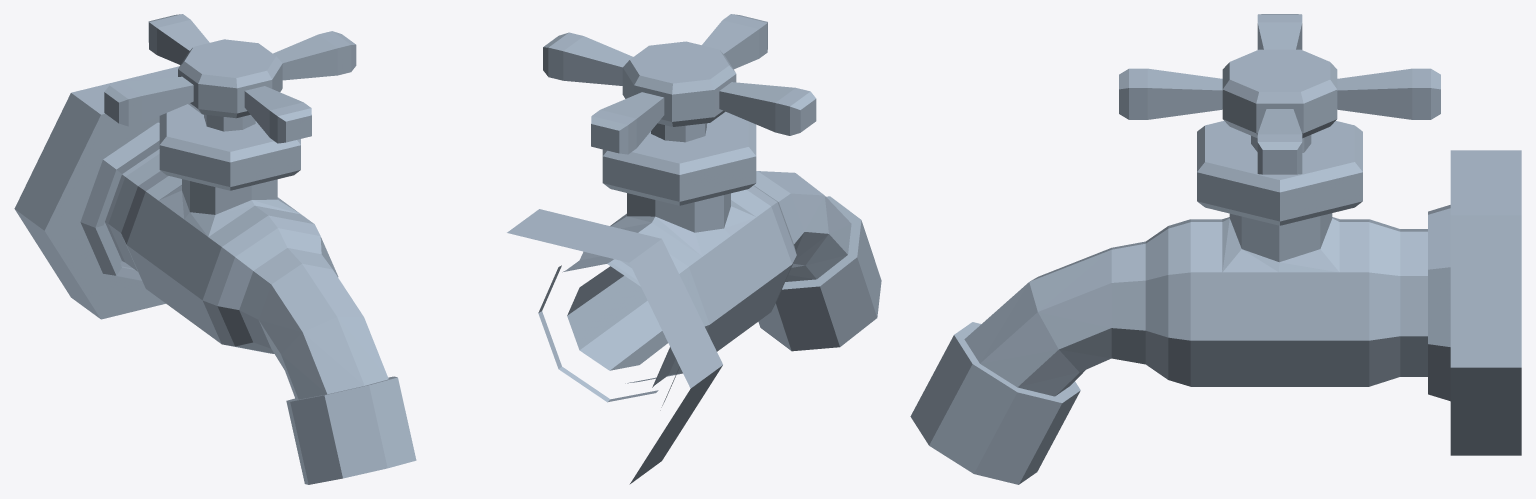
The model's file is faucet-by-poly-by-google-cSdeSixvkMt.glb.
3 renders of one model, left to right at view 1: azimuth 30°, elevation 25°; view 2: azimuth 150°, elevation 25°; view 3: azimuth 270°, elevation 25°, orthographic. The views are drawn at different scales.
Parts seen in each view (by area): view 1: Node; view 2: Node; view 3: Node.
Part boxes in pixels (left/top/right/bottom): Node: left=14, top=14, right=416, bottom=484; Node: left=507, top=14, right=881, bottom=484; Node: left=910, top=14, right=1521, bottom=484.
Size of the model in its own units: 3.61 by 4.96 by 6.85.
